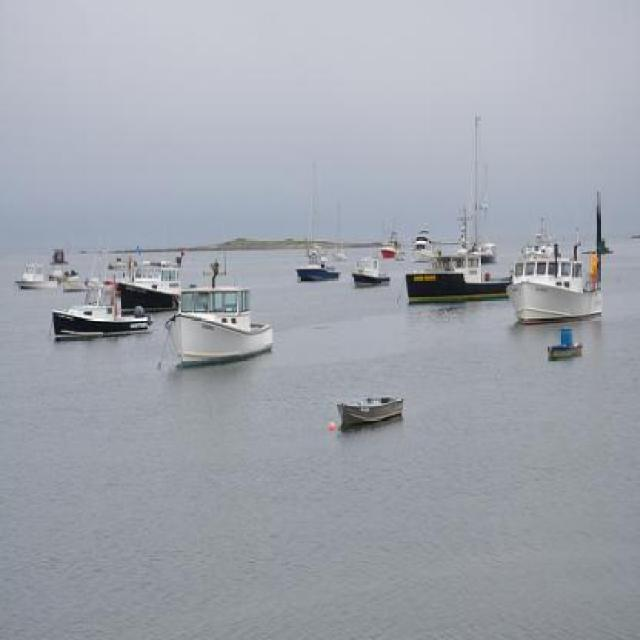ship: (392, 98, 520, 299), (164, 282, 276, 370), (506, 229, 605, 323), (39, 272, 159, 341), (102, 248, 193, 308), (8, 244, 86, 293), (332, 386, 412, 425), (289, 247, 340, 281), (350, 248, 388, 286)
